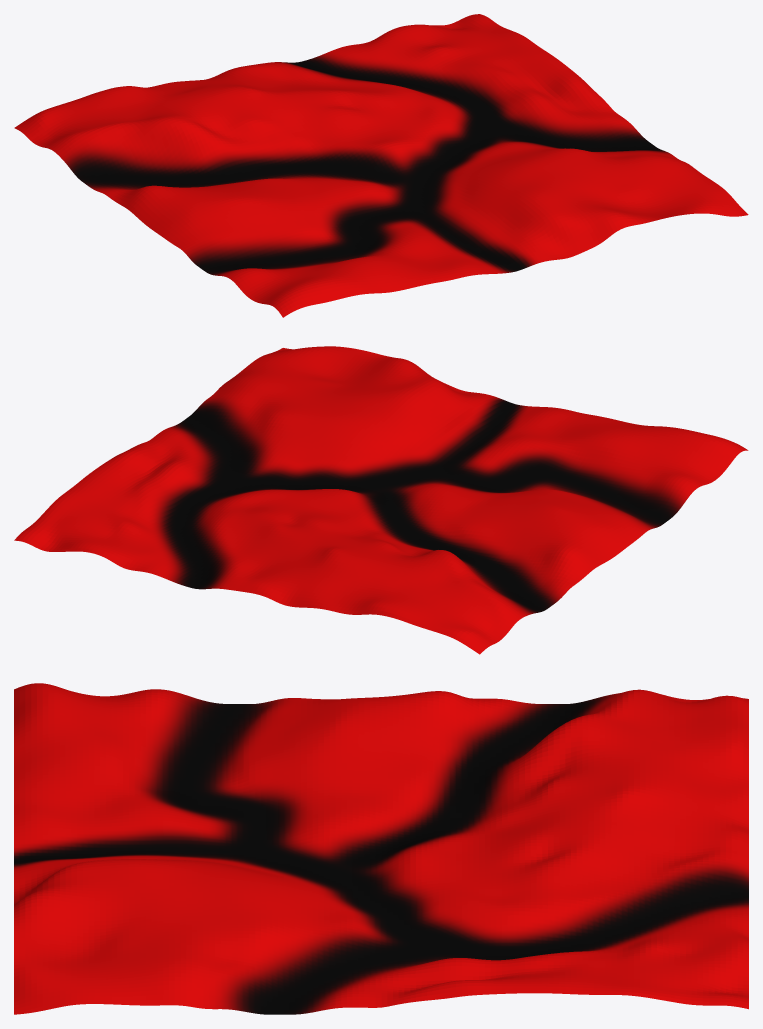
File: snow_terrain.glb
3 renders of one model, top to bottom at view 1: azimuth 30°, elevation 25°; view 2: azimuth 150°, elevation 25°; view 3: azimuth 270°, elevation 25°, orthographic. The views are drawn at different scales.
Parts seen in each view (by area): view 1: Grid; view 2: Grid; view 3: Grid.
Part boxes in pixels (x1,y1,x2,y2): Grid: [14, 14, 748, 317]; Grid: [14, 346, 748, 654]; Grid: [14, 683, 748, 1014].
Bounding box in the file's own units: 32 × 2.26 × 32.
